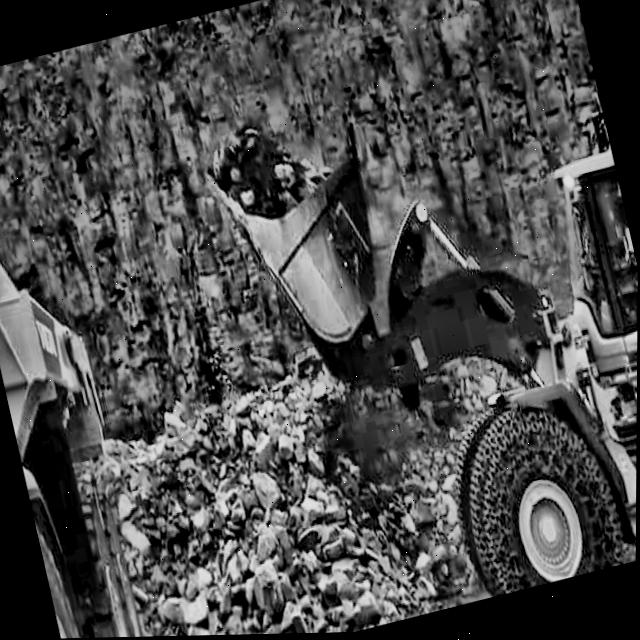buldozerpayloadergrader: (195, 62, 640, 637)
